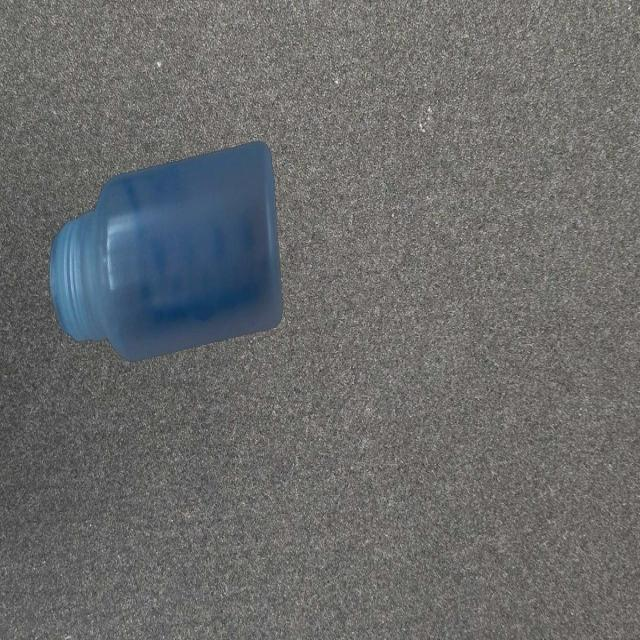bottle: (49, 137, 285, 363)
